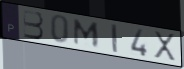0: (48, 14, 72, 46)
4: (129, 27, 149, 58)
B: (22, 9, 45, 41)
I: (110, 22, 120, 55)
M: (72, 17, 100, 49)
X: (153, 30, 178, 64)
